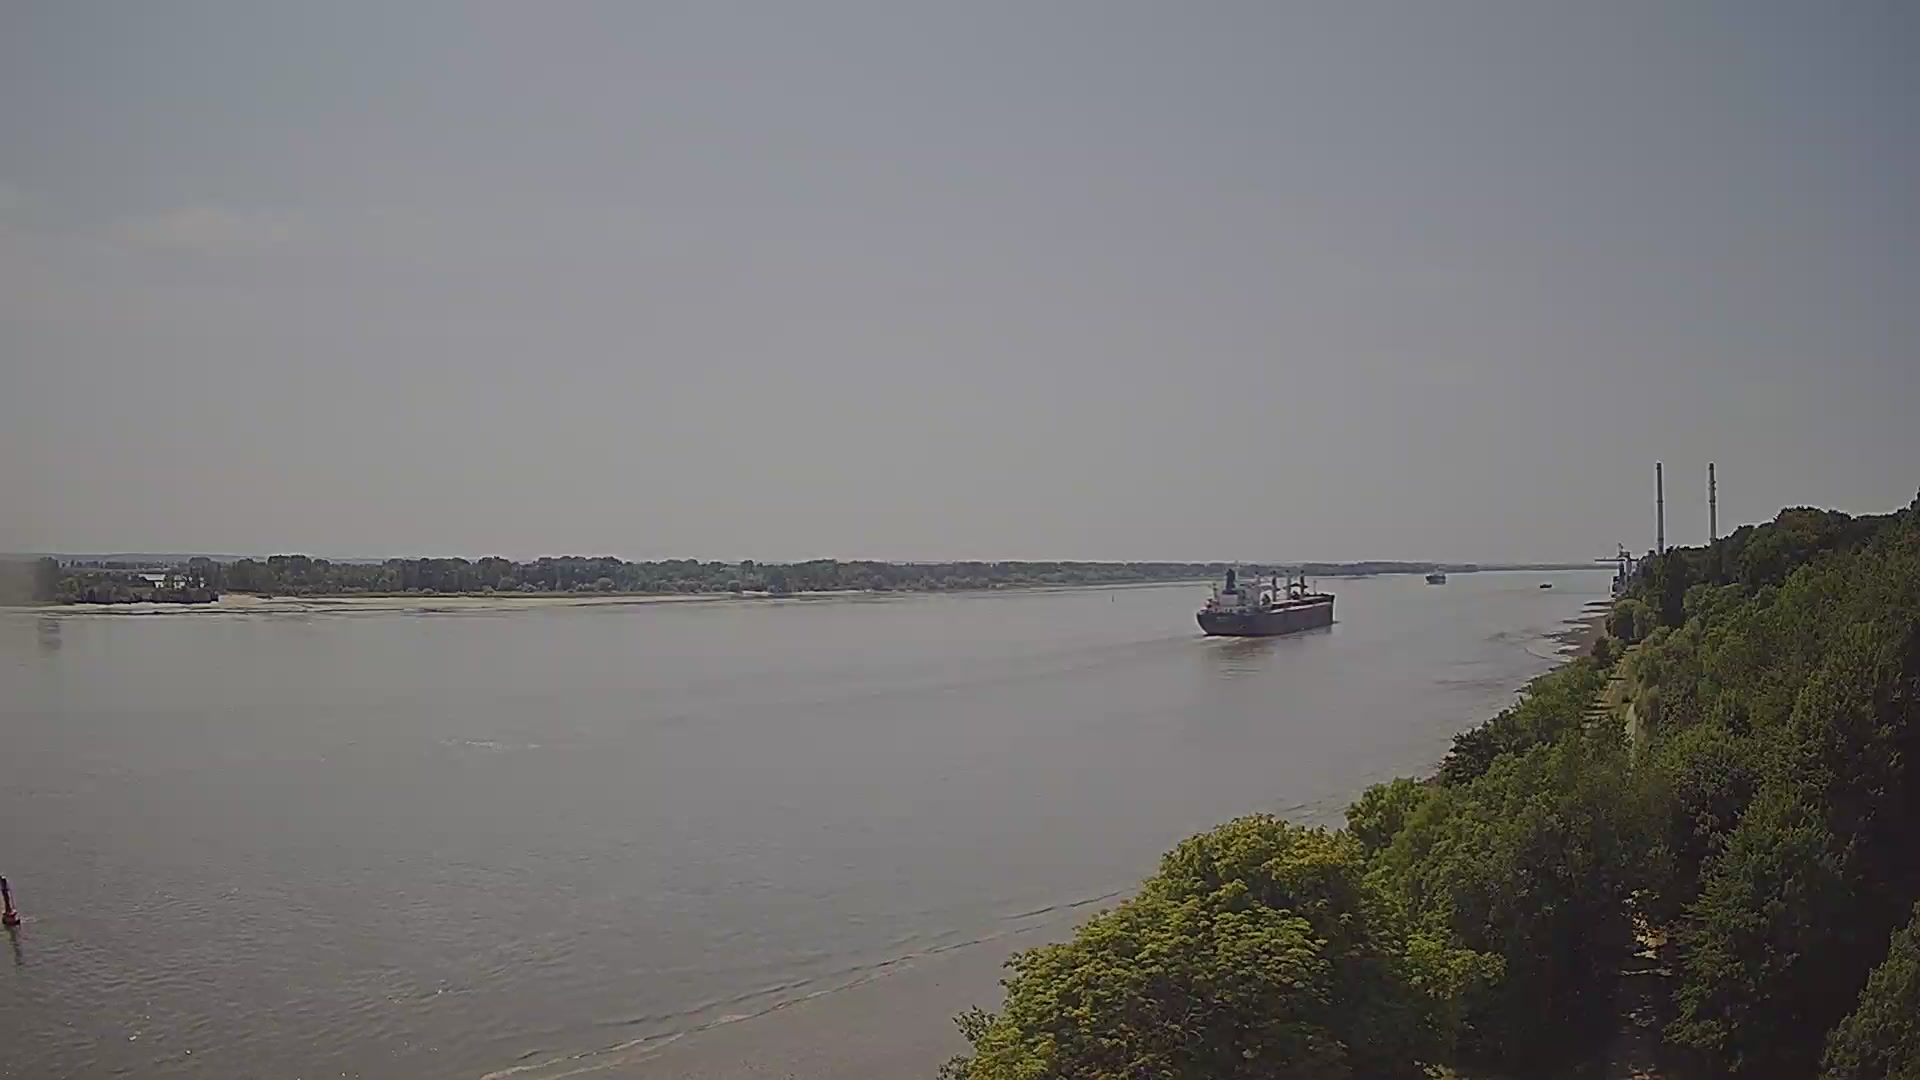sea: (1195, 564, 1336, 637), (1425, 568, 1447, 584), (1539, 582, 1553, 589)
